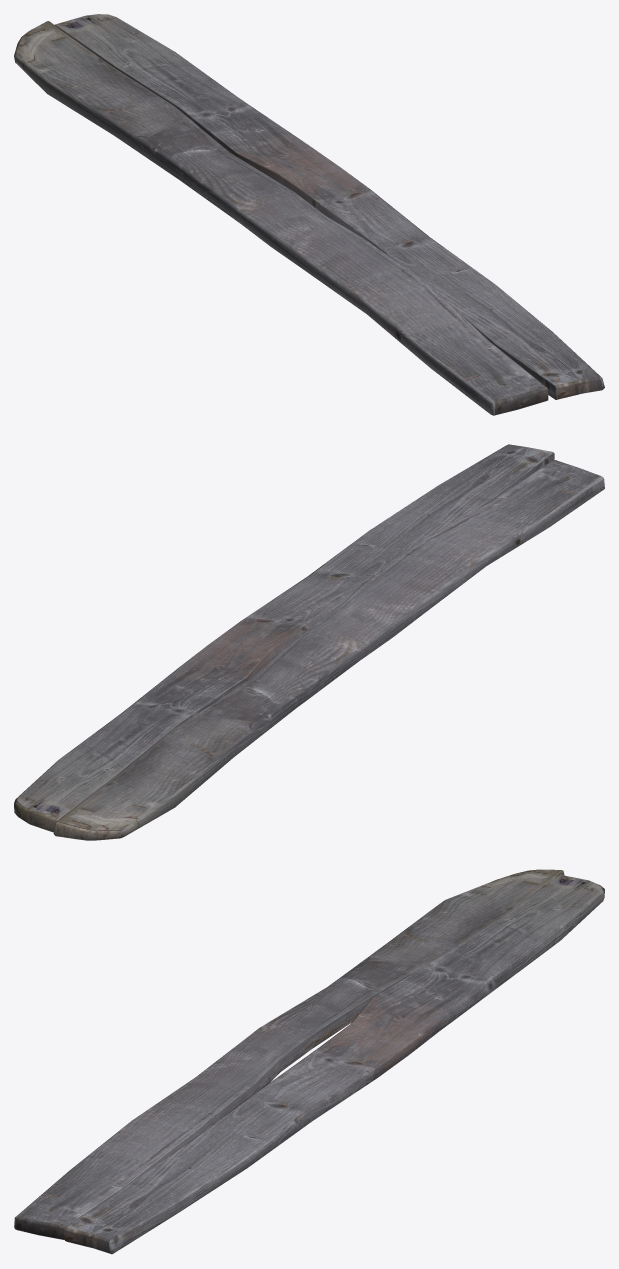
File: sm_WoodPlank_02_03.fbx
The picture shows the model from 3 angles, top to bottom: view 1: azimuth 30°, elevation 25°; view 2: azimuth 150°, elevation 25°; view 3: azimuth 330°, elevation 25°; orthographic projection. The views are drawn at different scales.
Visible parts, largest first — view 1: sm_WoodPlank_02_03_LOD0; view 2: sm_WoodPlank_02_03_LOD0; view 3: sm_WoodPlank_02_03_LOD0.
Boxes of the visible parts, bbox=[...] form: sm_WoodPlank_02_03_LOD0: bbox=[14, 14, 604, 415]; sm_WoodPlank_02_03_LOD0: bbox=[14, 444, 604, 840]; sm_WoodPlank_02_03_LOD0: bbox=[14, 869, 604, 1254].
Size of the model in its own units: 29.45 by 201 by 7.05.
